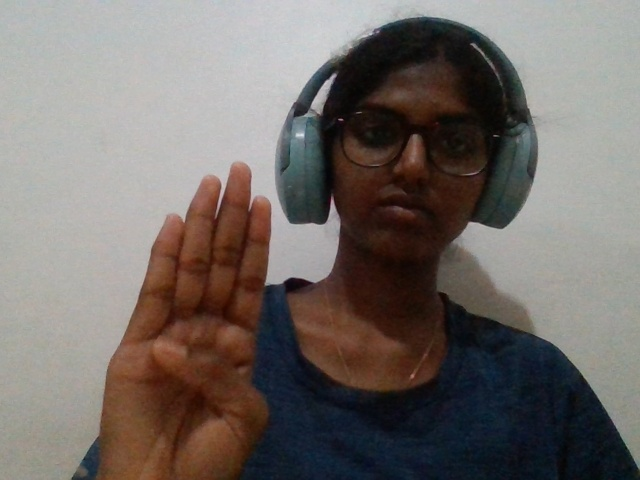B: (63, 149, 308, 480)
